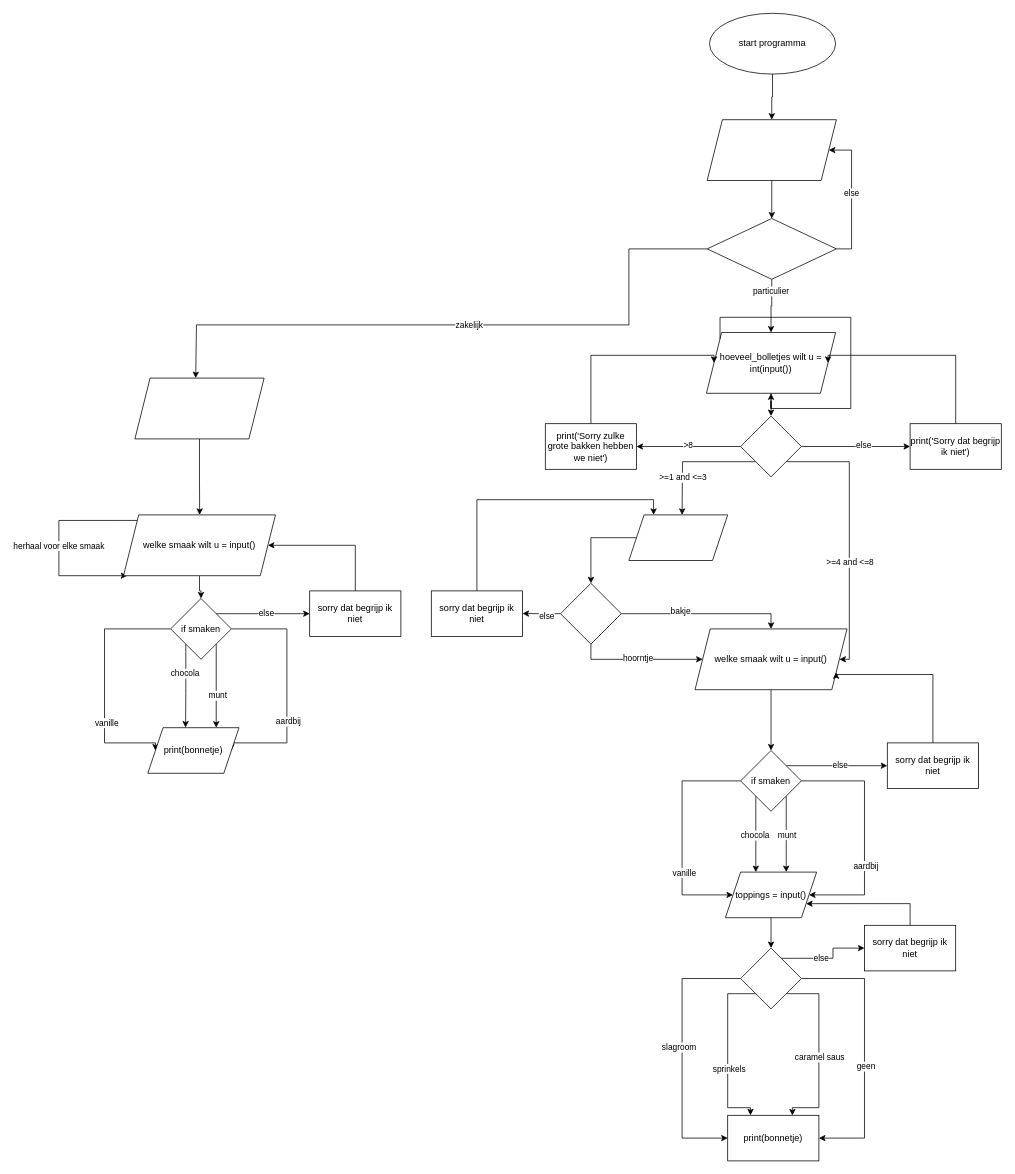
Image size: 1015x1174. Some labels were removed from this diagram. The box of each missing label's shape, as (x1, y1, x2, y2) in pixels:
bakje_of_hoorntje = input(): (628, 514, 728, 560)
Hoeveel_liter = int(input()): (134, 377, 264, 439)
if hoeveel bolletjes: (740, 415, 801, 477)
if hoorntje of bakje: (560, 583, 621, 644)
if particulier_of_zakelijk: (706, 218, 836, 279)
if toppings: (740, 947, 801, 1009)
particulier_of_zakelijk = int(input: (706, 119, 836, 180)
